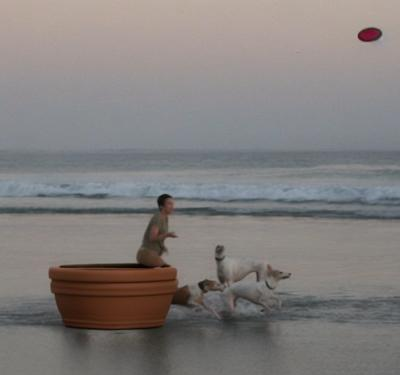dog: (220, 264, 294, 319), (153, 278, 228, 322), (214, 243, 269, 286)
person: (136, 193, 180, 297)
pottedplant: (49, 263, 175, 330)
